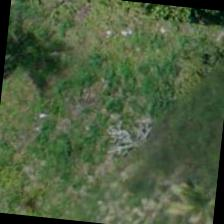Kelapa_Sawit: (152, 158, 220, 223)
